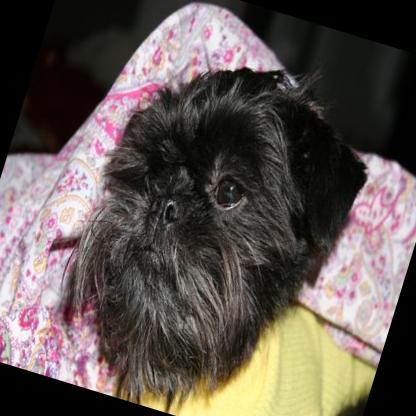affenpinscher: (35, 20, 390, 416)
